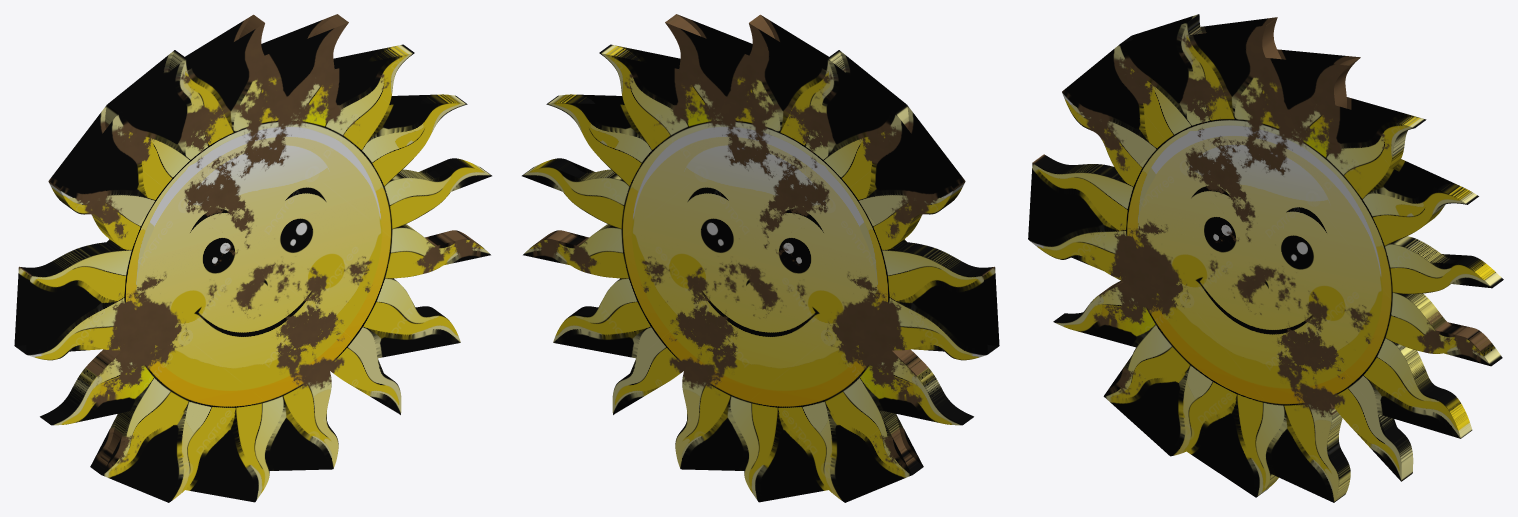
The model's file is sol.fbx.
3 renders of one model, left to right at view 1: azimuth 30°, elevation 25°; view 2: azimuth 150°, elevation 25°; view 3: azimuth 330°, elevation 25°, orthographic.
Parts seen in each view (by area): view 1: sol; view 2: sol; view 3: sol.
Part boxes in pixels (x1,y1,x2,y2): sol: (14, 14, 491, 502); sol: (522, 14, 999, 502); sol: (1028, 14, 1503, 502).
Size of the model in its own units: 354 by 346 by 15.15.
Materials: 1 (1 with a texture image).
